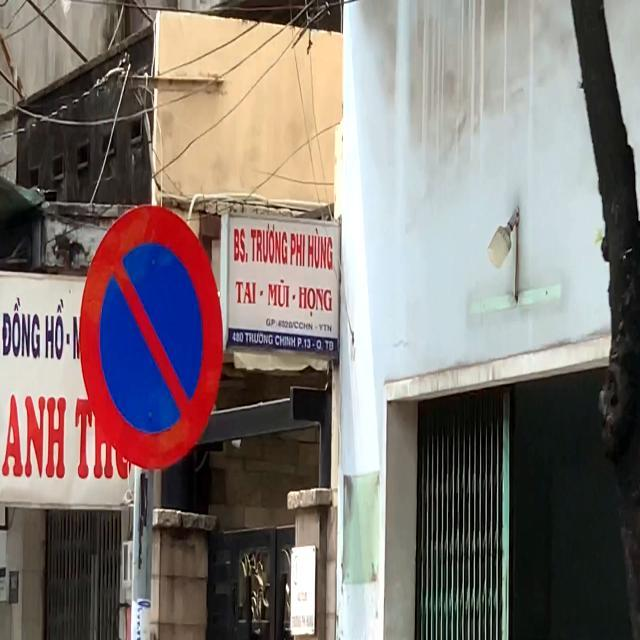P-131a: (78, 206, 222, 474)
